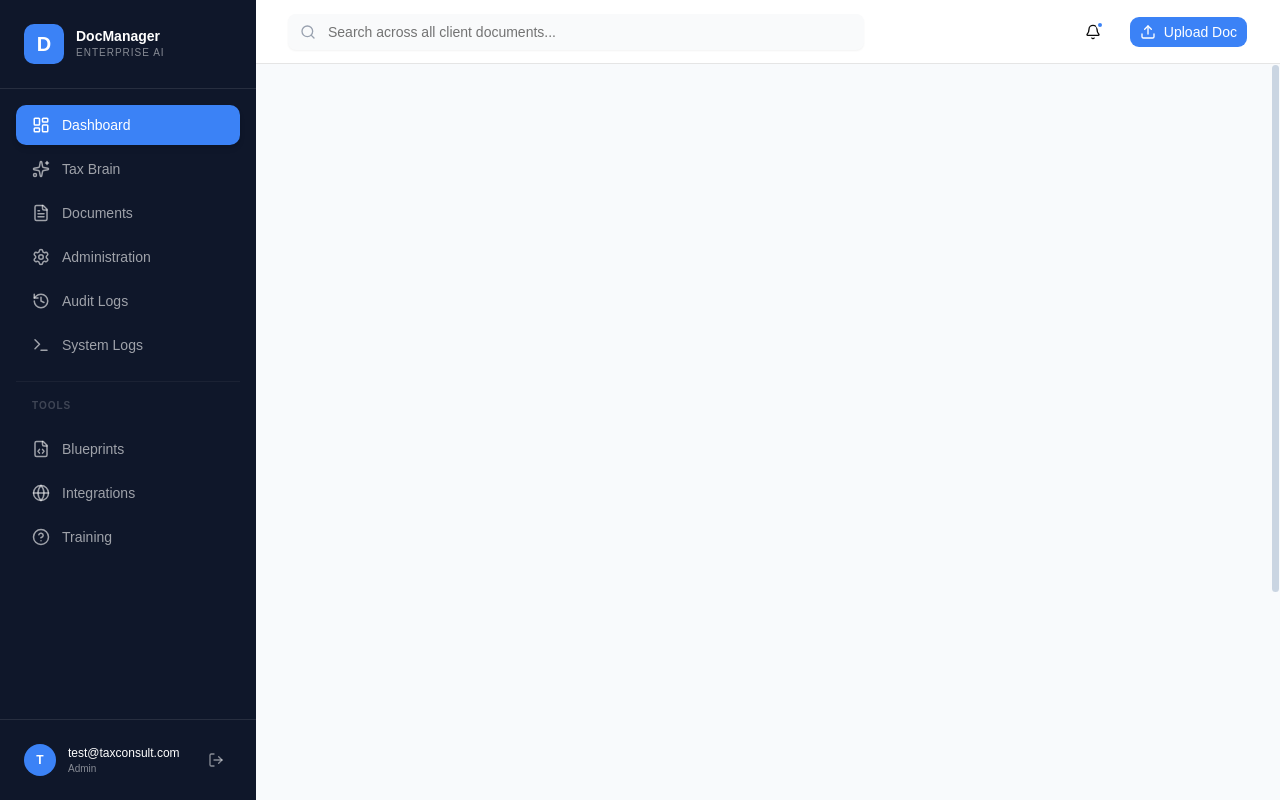
Test: App Tab Navigation › renders Audit Logs tab
Step 1. Click the button "Audit Logs" → click(128, 301), box [16,281,240,321]
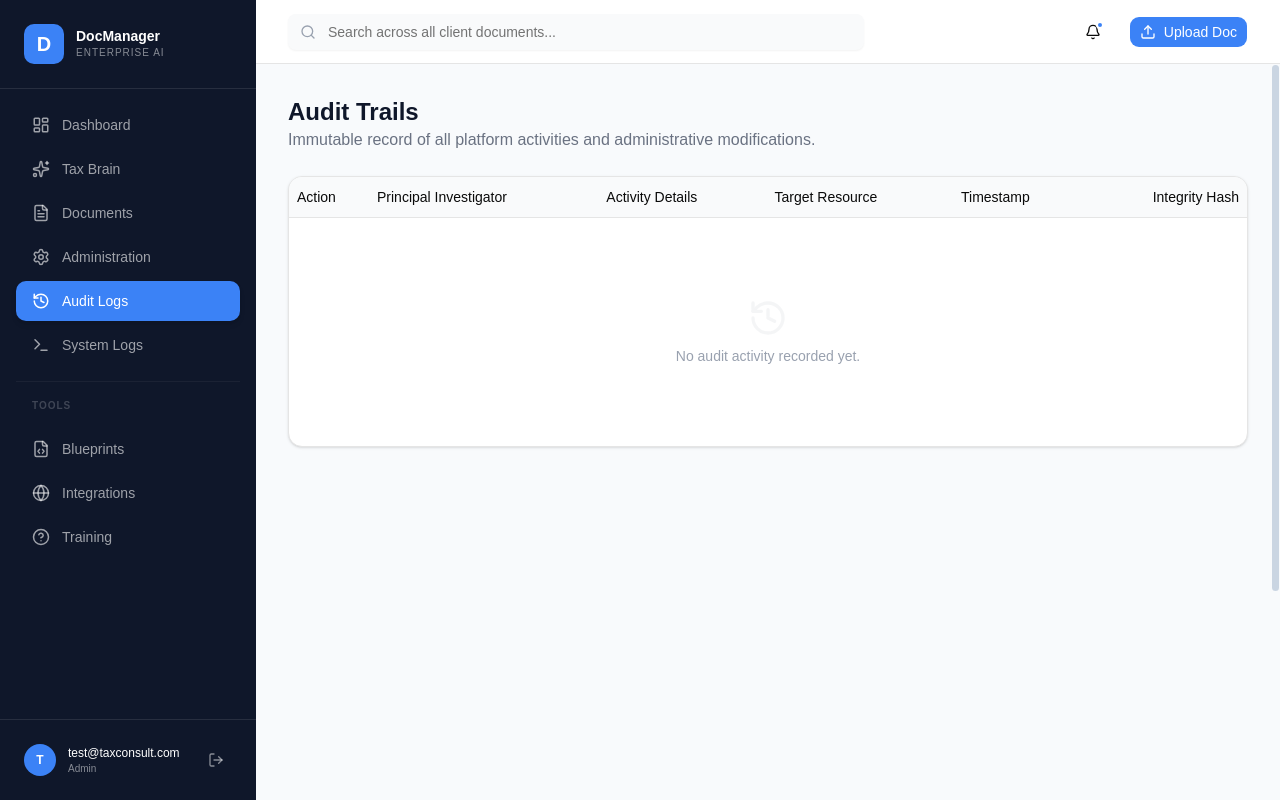
expect the heading "Audit Trails" is shown: met, box [288,98,419,125]
